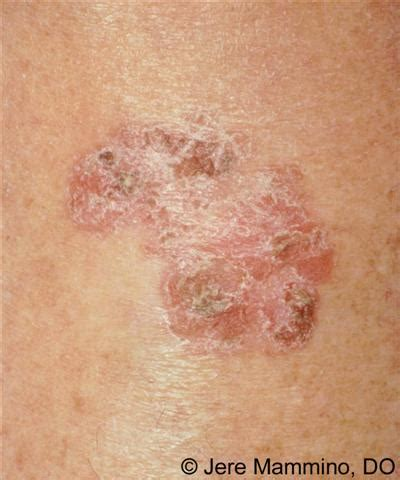Bowen: (69, 109, 326, 344)
